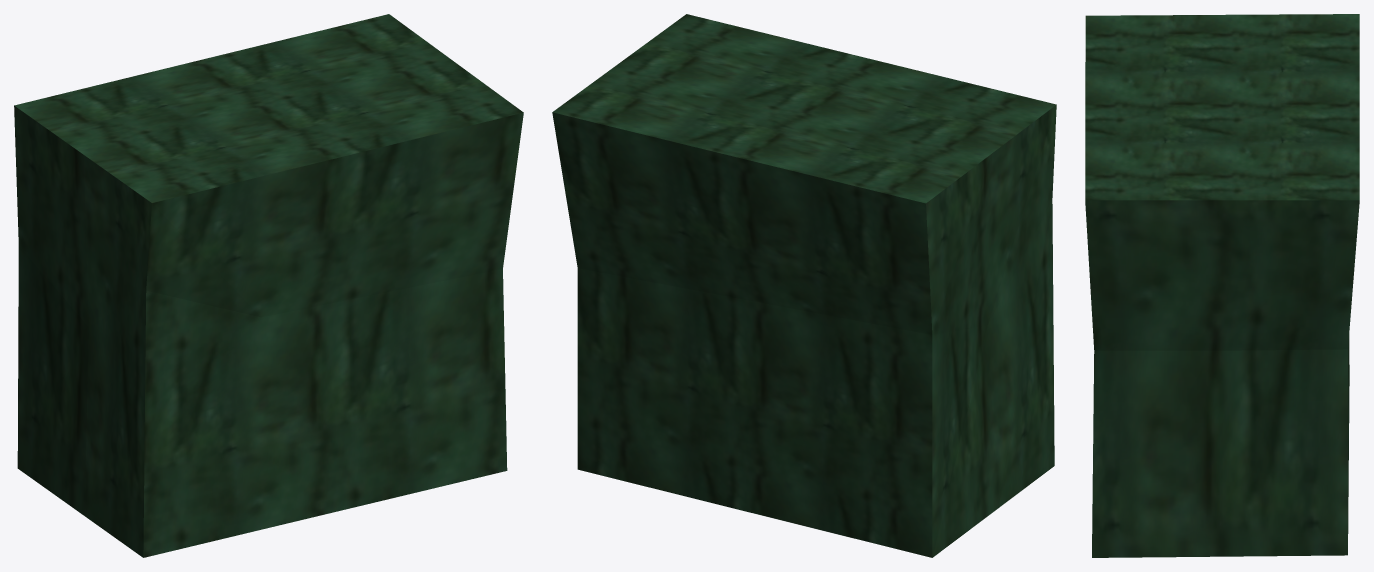
Rendered from Island_1_Block_1.gltf.
3 renders of one model, left to right at view 1: azimuth 30°, elevation 25°; view 2: azimuth 150°, elevation 25°; view 3: azimuth 270°, elevation 25°, orthographic. The views are drawn at different scales.
Visible parts, largest first — view 1: Island_1_Block_1; view 2: Island_1_Block_1; view 3: Island_1_Block_1.
Part boxes in pixels (x1,y1,x2,y2): Island_1_Block_1: [14, 14, 523, 557]; Island_1_Block_1: [552, 14, 1056, 557]; Island_1_Block_1: [1085, 14, 1359, 557].
Size of the model in its own units: 6.72 by 6.12 by 4.16.
Materials: 1 (1 with a texture image).
